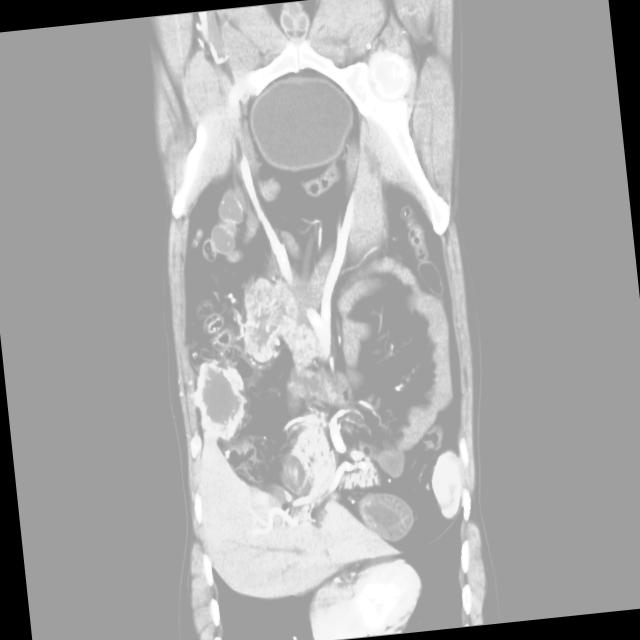TUMOR: (118, 150, 546, 525)
